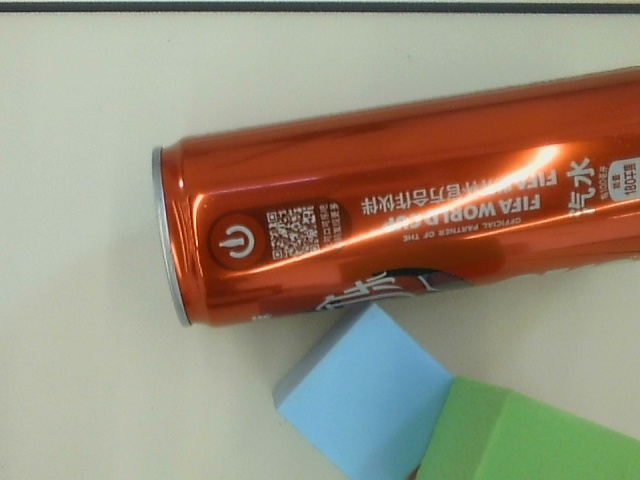bluecube: (276, 306, 462, 480)
cola: (145, 65, 640, 330)
greencube: (415, 373, 640, 480)
